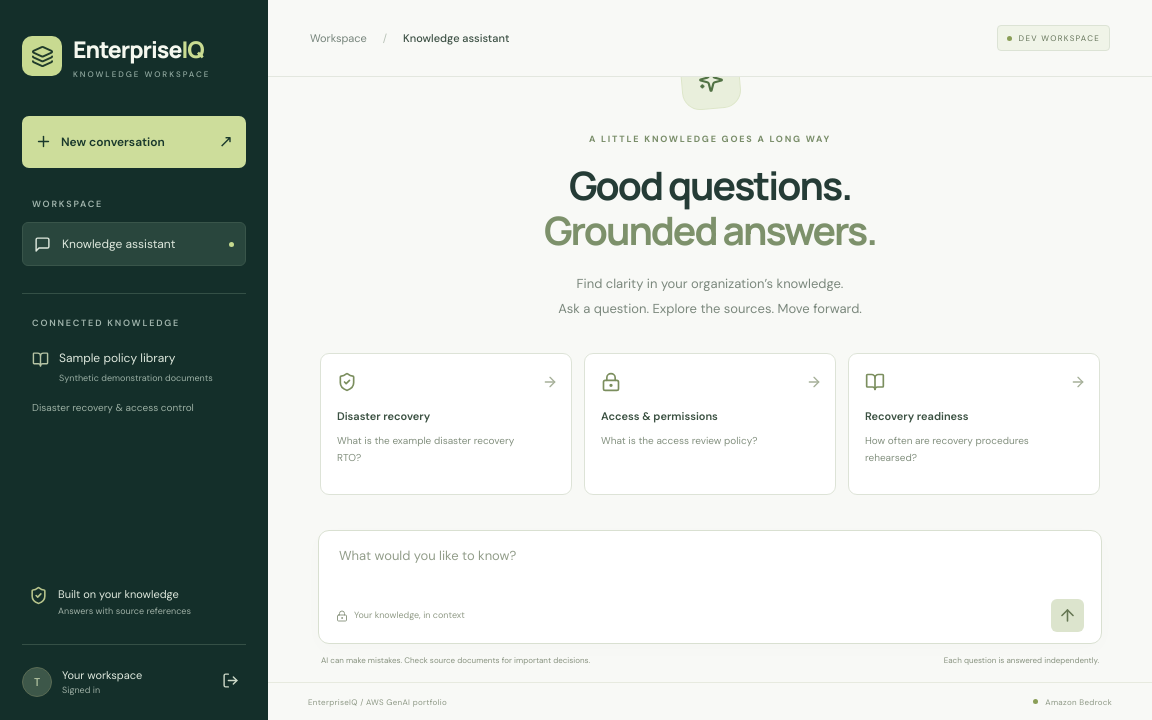
Test: workspace › preserves the question on failure and allows retry
In the text box named "Ask a question": (710, 569) top-left (336, 546), bottom-right (1084, 592), type "Recovery?"
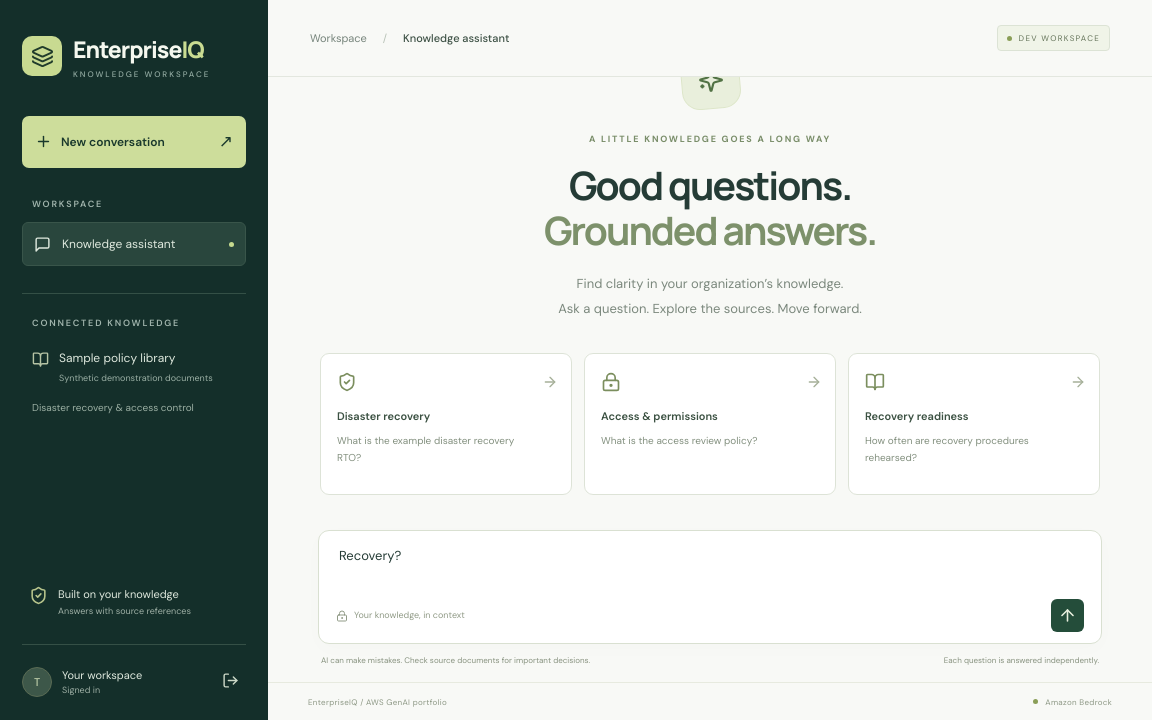
Click the button named "Send question": (1068, 616) top-left (1051, 599), bottom-right (1084, 632)
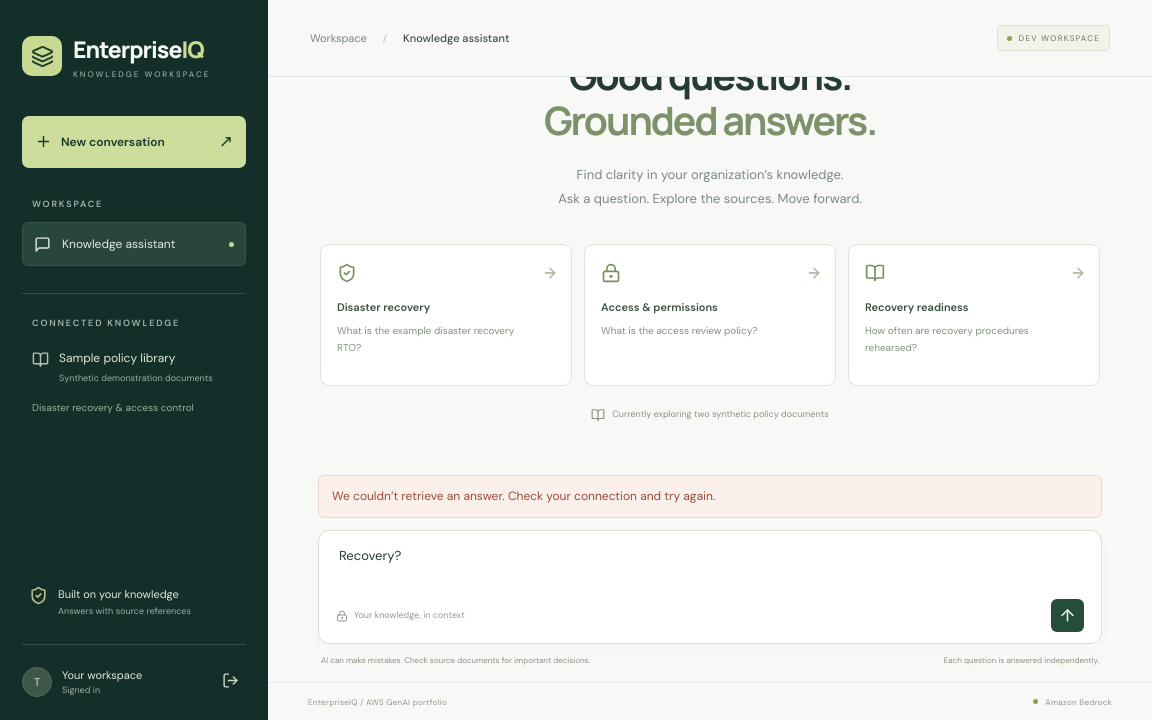
Expected: the button named "Send question" is enabled, top-left (1051, 599), bottom-right (1084, 632)
Expected: the message shows "couldn’t retrieve", top-left (332, 488), bottom-right (715, 504)
